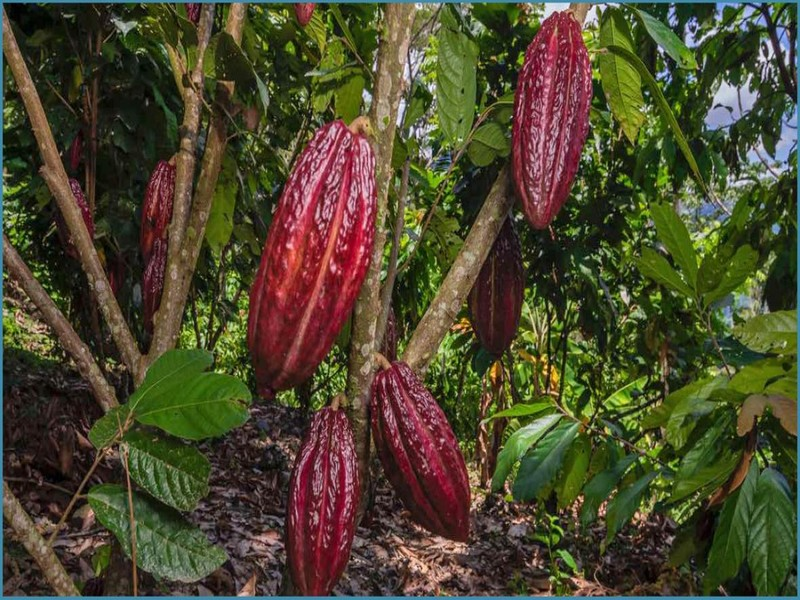Cacaopod: (245, 119, 378, 393), (512, 11, 591, 230)
